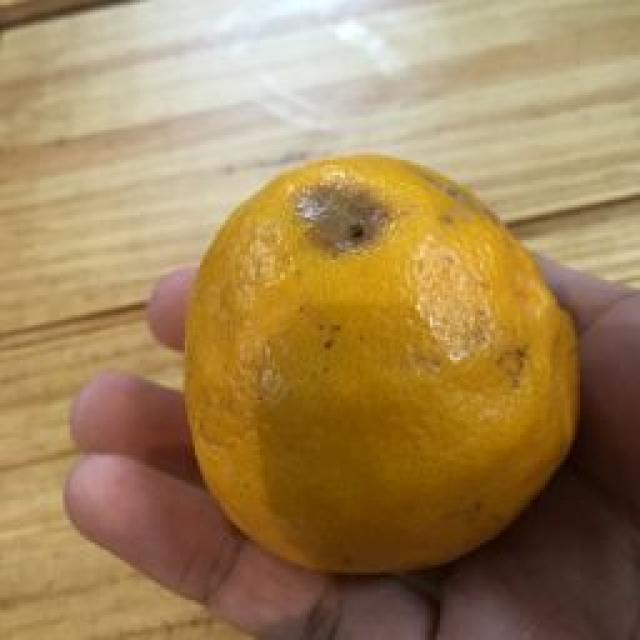Bad_Orange: (186, 155, 579, 572)
